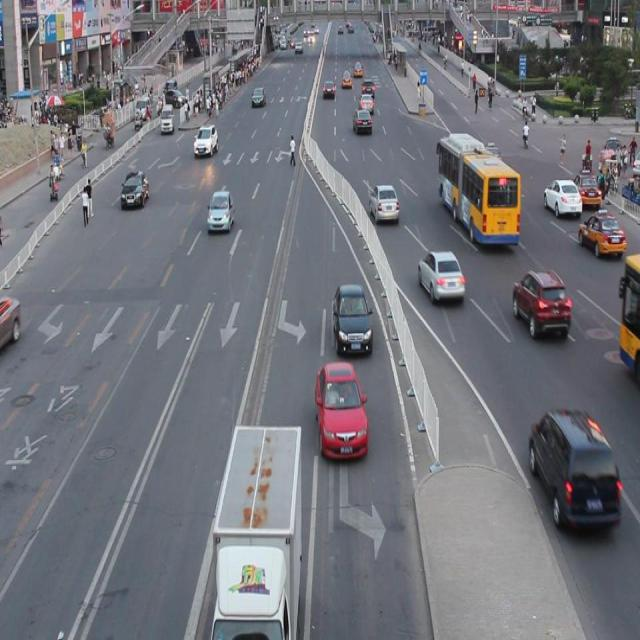bus: (209, 422, 301, 640)
car: (529, 406, 619, 526), (315, 359, 368, 459), (512, 268, 569, 338), (332, 282, 372, 357), (418, 248, 464, 298), (577, 208, 624, 255), (543, 178, 581, 215), (206, 189, 235, 232), (369, 183, 399, 224), (120, 169, 149, 210), (571, 173, 600, 205)
van: (438, 136, 519, 244), (616, 253, 640, 375)
